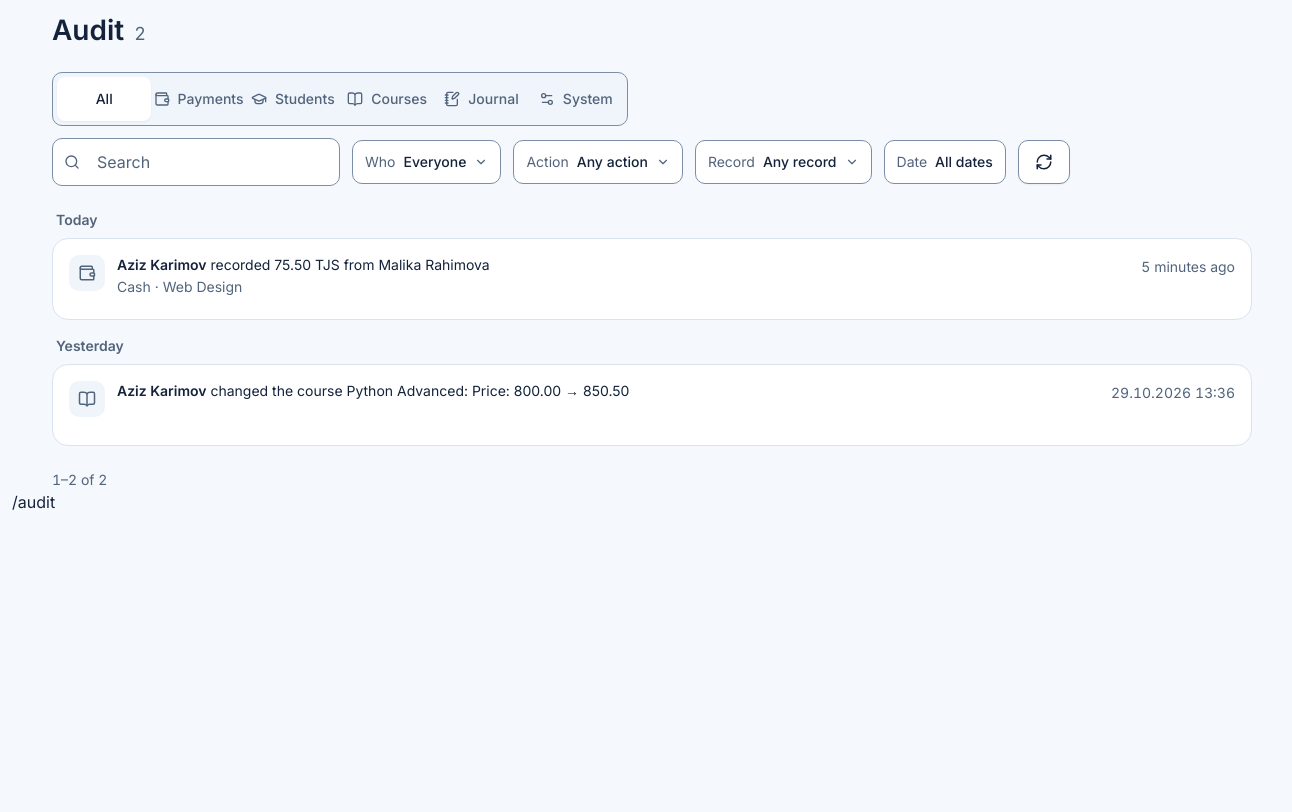
Audit states › keeps loaded rows with a notice when a refresh fails
This screenshot has width=1292, height=812.
Expected: the text "Aziz Karimov recorded 75.50 TJS from Malika Rahimova" is shown, [117, 256, 490, 273]
Click the button named "Refresh". click: (1044, 162)
box: [1018, 140, 1070, 184]
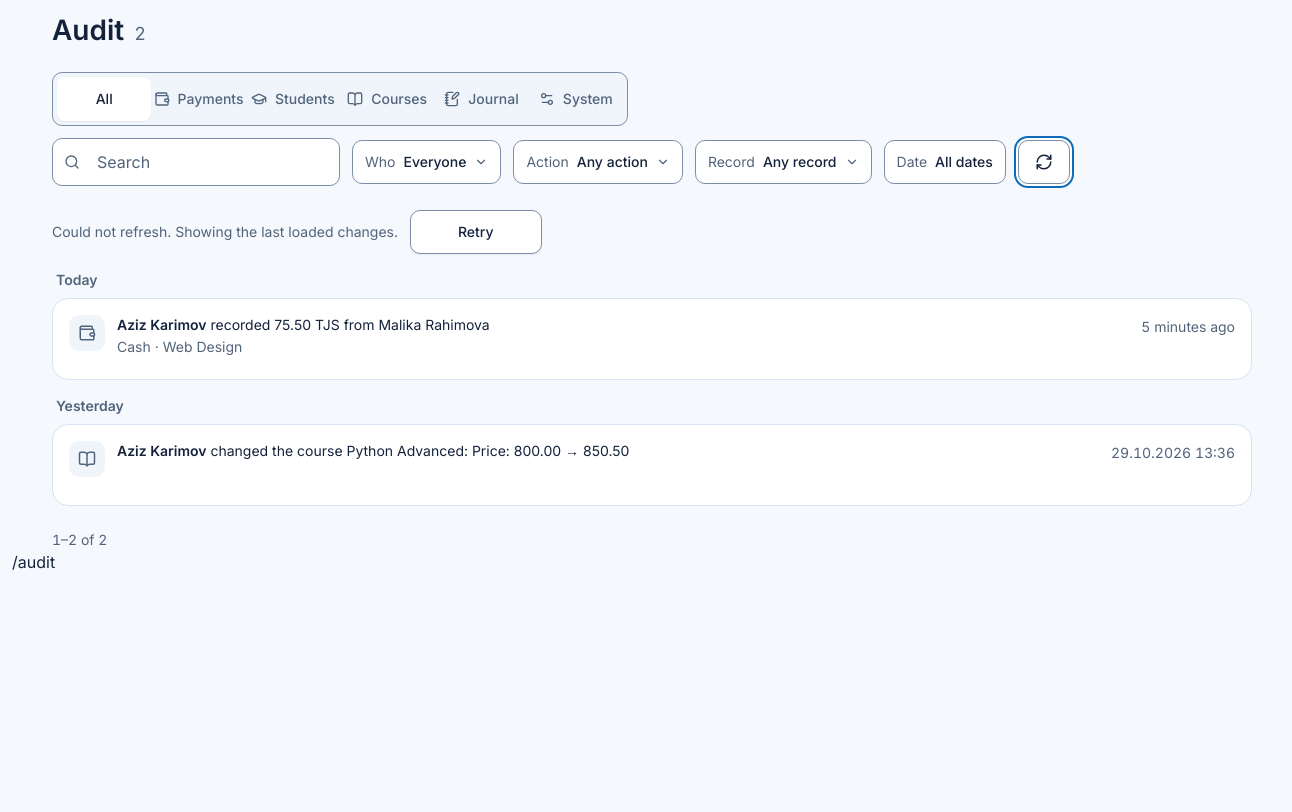
Expected: the text "Aziz Karimov recorded 75.50 TJS from Malika Rahimova" is shown, [117, 316, 490, 333]
Result: the text "Could not refresh. Showing the last loaded changes." is shown at [52, 222, 398, 242]
